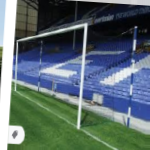goals: (14, 20, 113, 133)
